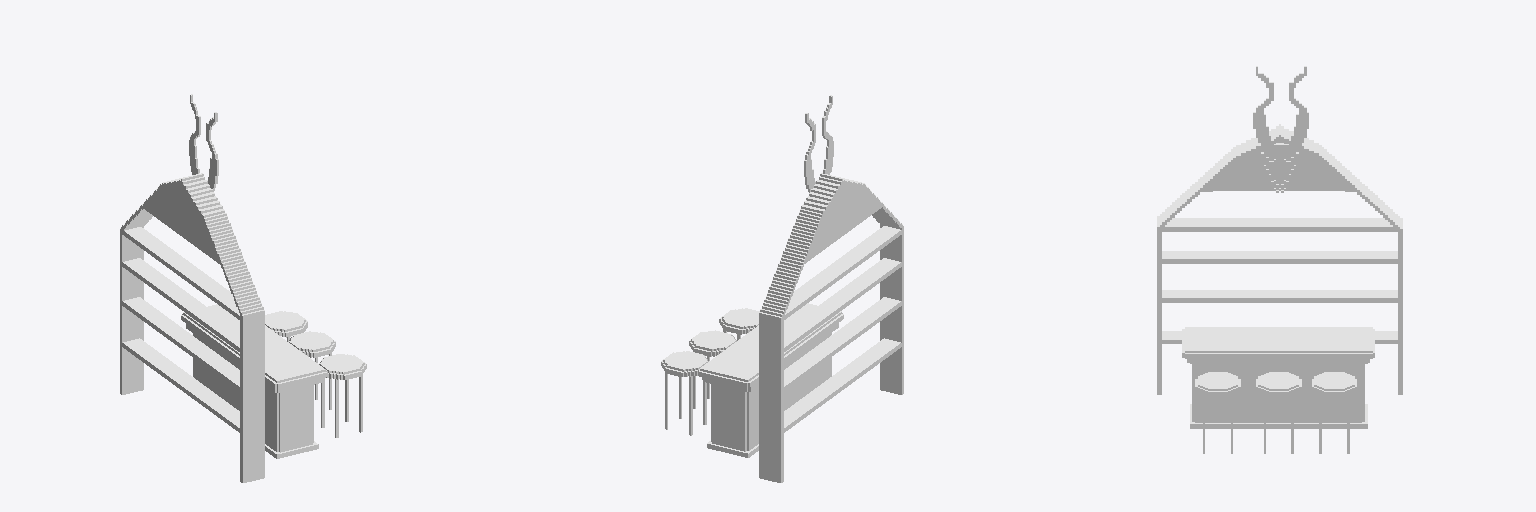
File: Bar1-2.obj
The picture shows the model from 3 angles: view 1: azimuth 30°, elevation 25°; view 2: azimuth 150°, elevation 25°; view 3: azimuth 270°, elevation 25°; orthographic projection.
Visible parts, largest first — view 1: object 1; view 2: object 1; view 3: object 1.
Boxes of the visible parts, <box> form: object 1: <box>120,94,366,482</box>; object 1: <box>661,95,903,482</box>; object 1: <box>1157,66,1402,453</box>.
Bounding box in the file's own units: 6.8 × 14.3 × 9.7.